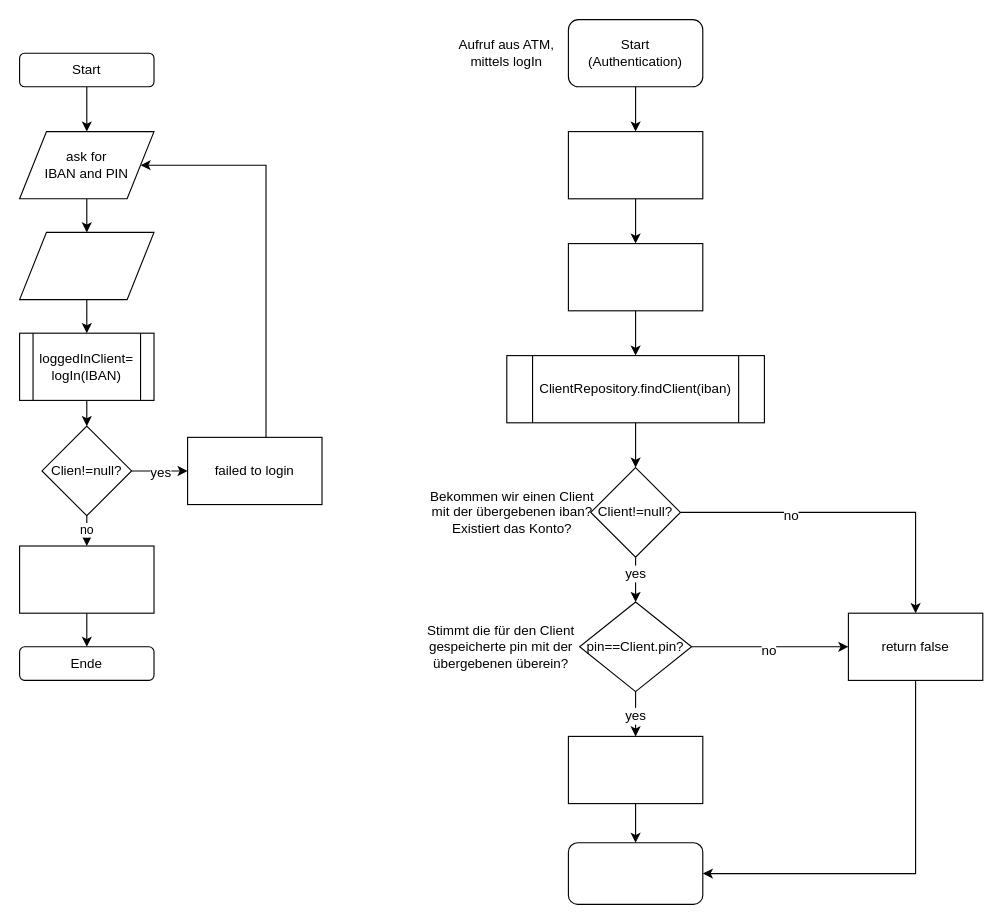
Some shapes in this 1002 by 924 pixel diagram are drawn without their labels. Here are the shapes that lost their labels. From the top down, the centre of each, then its label:
At point 635,164: "logIn(iban, pin)".
At point 86,265: "get IBAN and PIN from console IN".
At point 635,276: "getClient(iban)".
At point 86,579: "success logging in".
At point 635,769: "return true".
At point 635,873: "Ende ATM".
